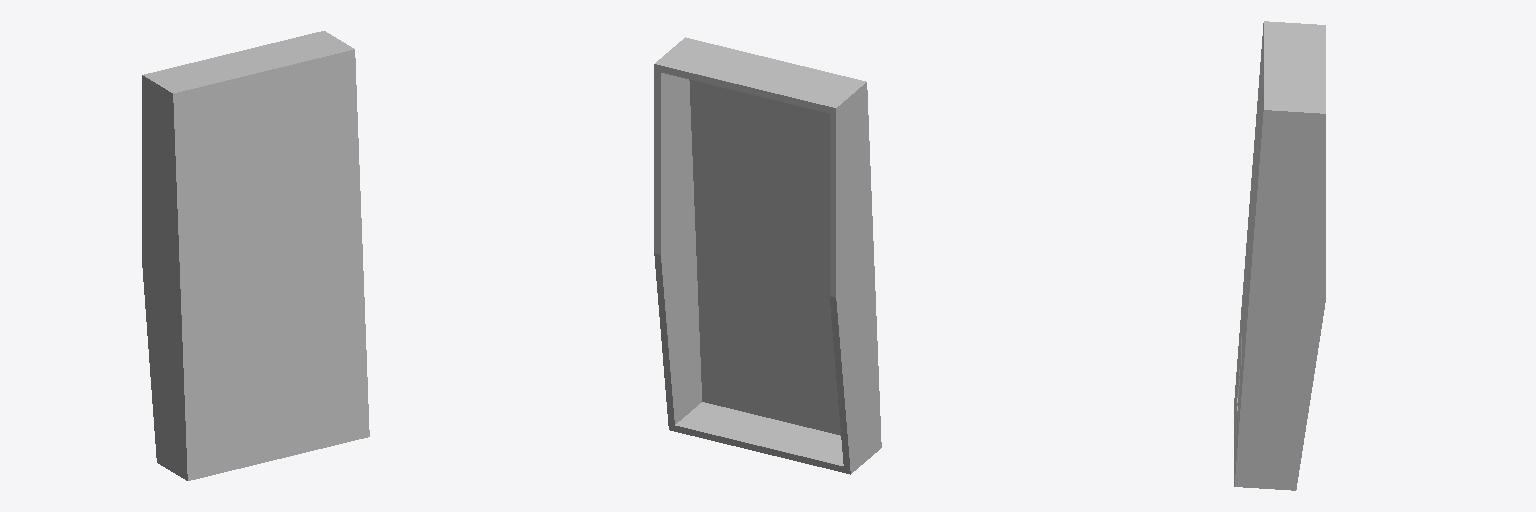
File: original-35.obj
The picture shows the model from 3 angles: view 1: azimuth 30°, elevation 25°; view 2: azimuth 150°, elevation 25°; view 3: azimuth 270°, elevation 25°; orthographic projection.
Visible parts, largest first — view 1: #ID1340; view 2: #ID1340; view 3: #ID1340.
Part boxes in pixels (x1,y1,x2,y2): #ID1340: (142, 31, 369, 480); #ID1340: (654, 37, 881, 474); #ID1340: (1234, 21, 1325, 490).
Bounding box in the file's own units: 0.3119 × 0.6237 × 0.1351.